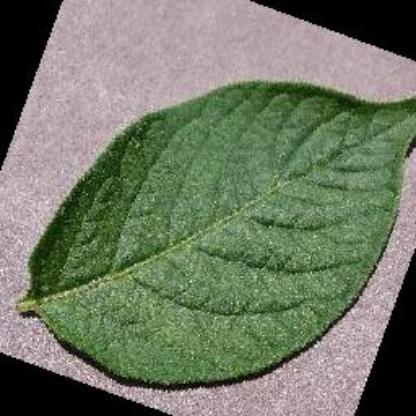Healthy-plant: (21, 64, 416, 398)
